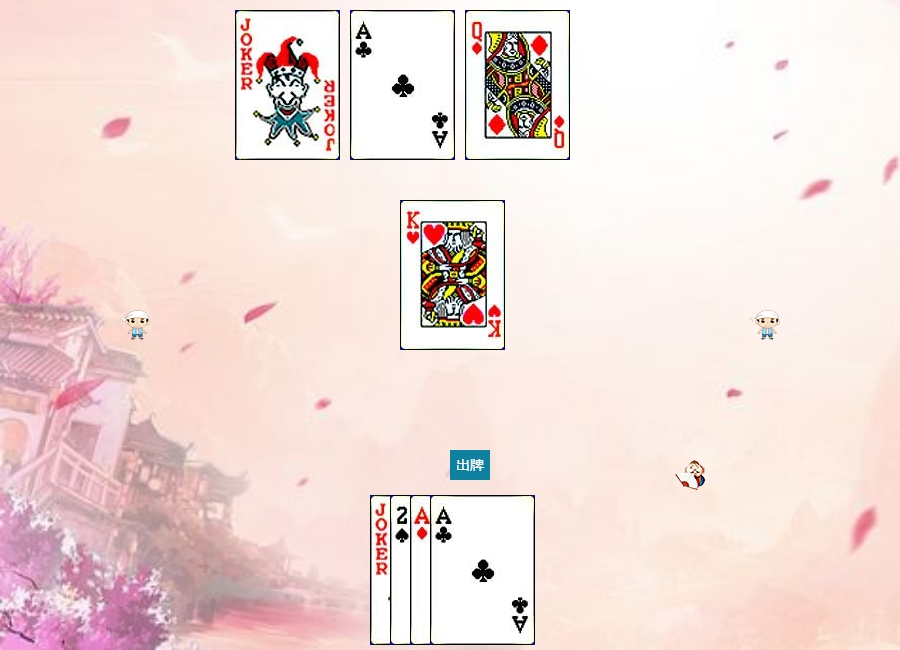12~1: (465, 10, 570, 160)
13~3: (400, 200, 505, 350)
14~1: (410, 495, 515, 645)
14~2: (350, 10, 455, 160), (430, 495, 535, 645)
15~4: (390, 495, 495, 645)
18~4: (235, 10, 340, 160), (370, 495, 475, 645)
